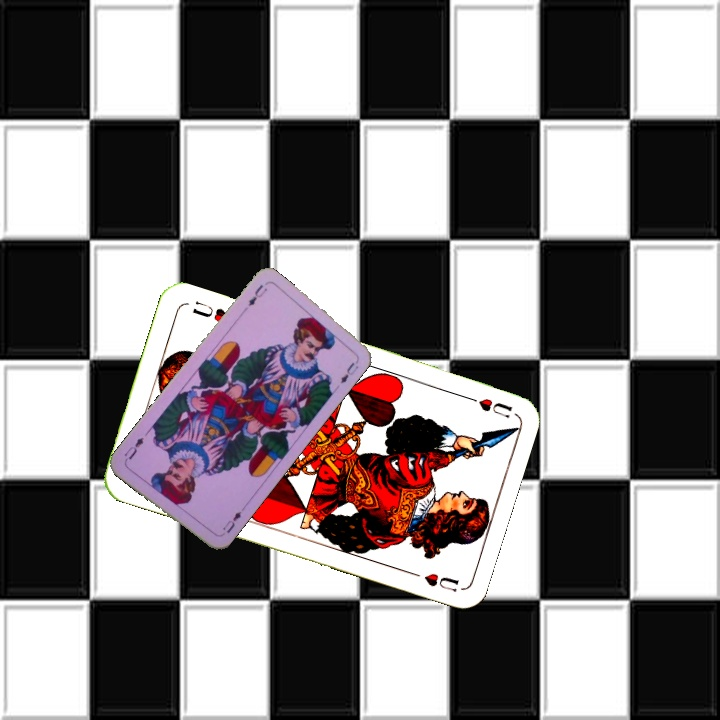EU: (219, 504, 247, 536), (244, 280, 270, 309)
HU: (458, 391, 515, 421)
